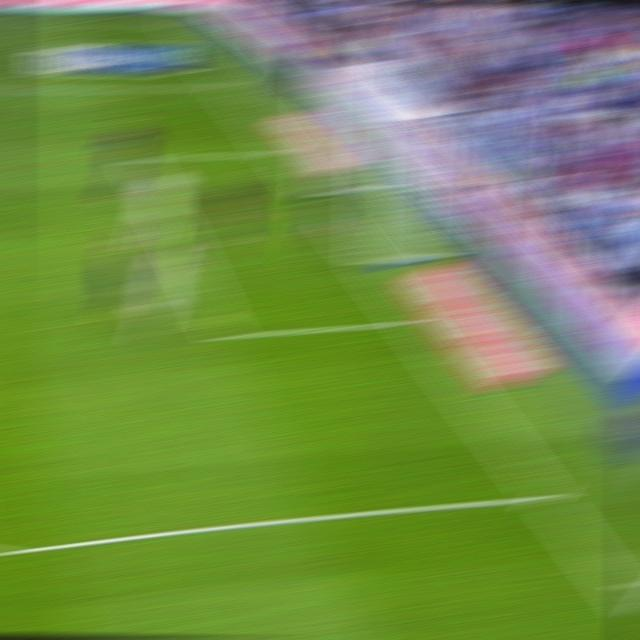bigarea_bottom_inner: (210, 320, 240, 348)
bigarea_top_outter: (213, 76, 240, 92)
bottom_arc_area_intersection: (530, 480, 564, 511)
smallarea_top_outter: (266, 142, 293, 160)
